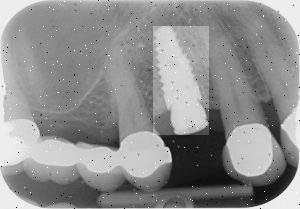BioHorizons: (147, 21, 211, 139)
